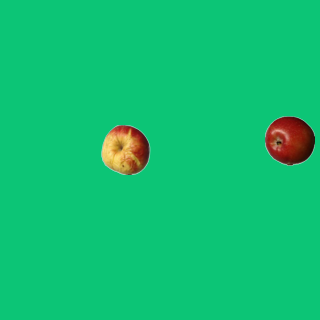Apple Braeburn: (264, 115, 314, 165)
Apple Red Yellow 1: (100, 124, 150, 174)
